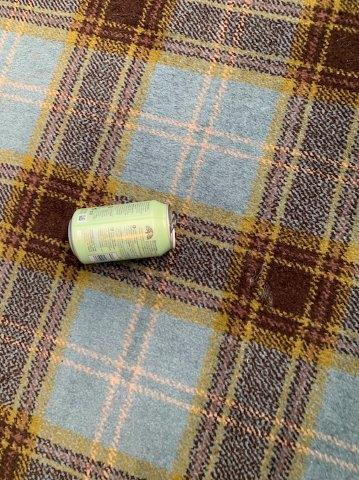kaleng: (69, 202, 174, 262)
